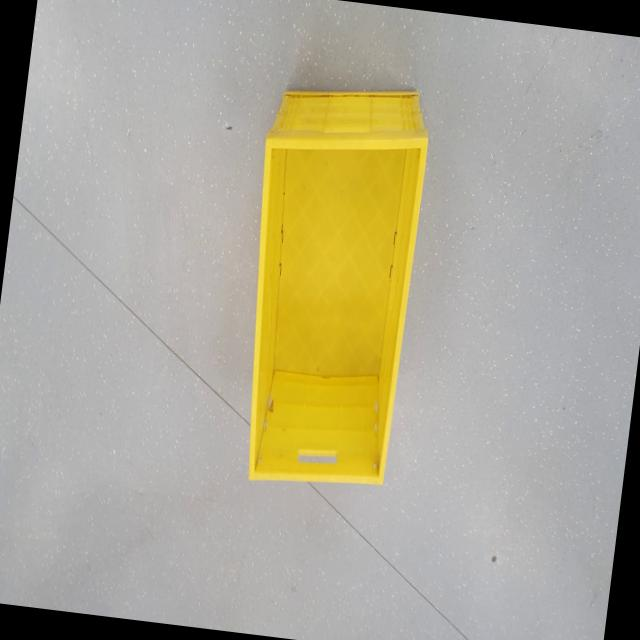box: (216, 66, 453, 501)
